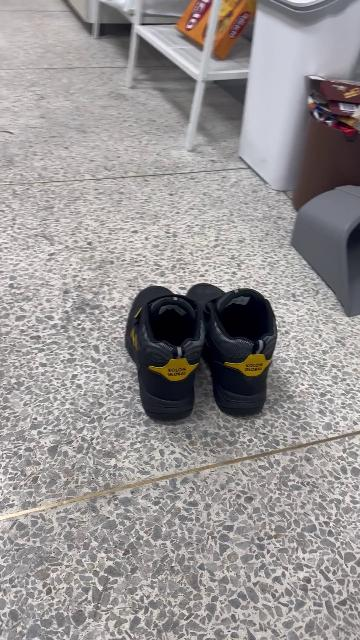shoe_worn: (185, 281, 278, 417), (124, 284, 207, 423)
